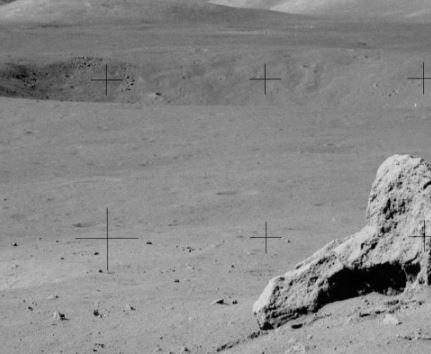rock: (253, 154, 431, 329)
